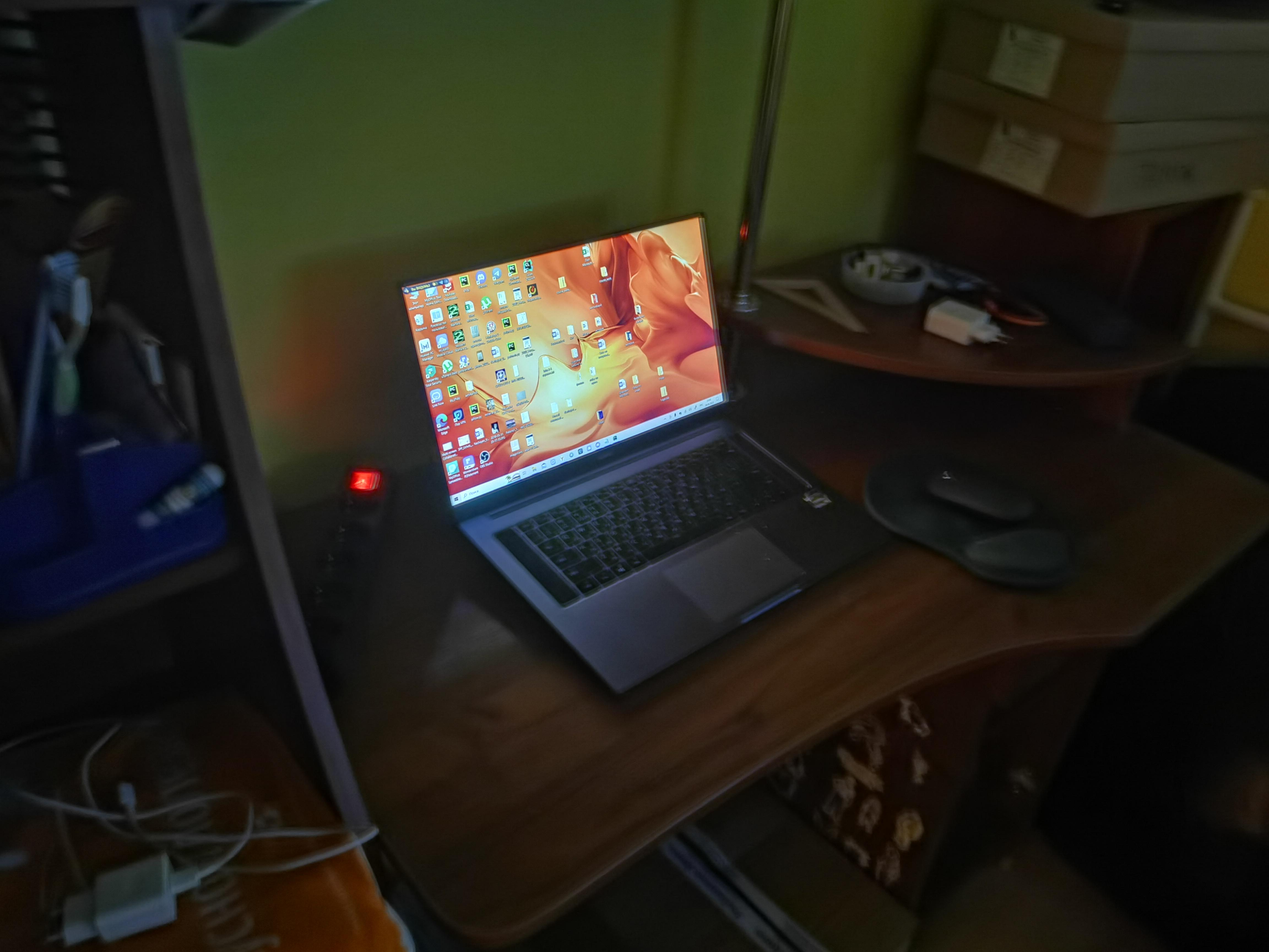monitor: (402, 209, 738, 530)
